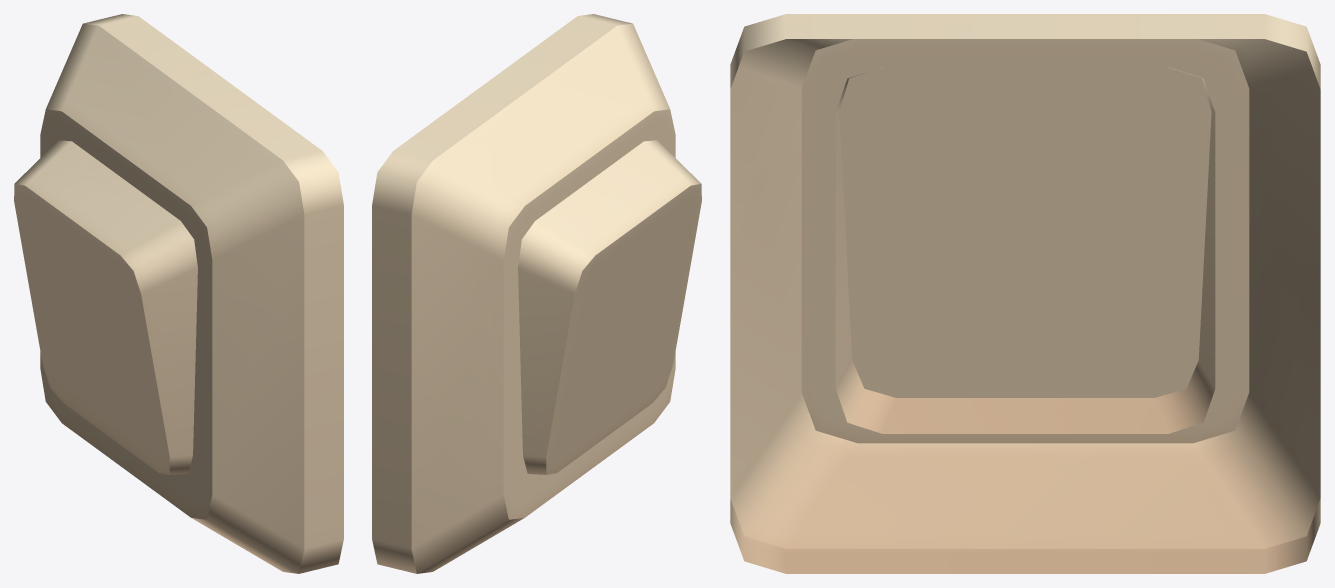
The model's file is switch_01.fbx.
The picture shows the model from 3 angles, left to right: view 1: azimuth 30°, elevation 25°; view 2: azimuth 150°, elevation 25°; view 3: azimuth 270°, elevation 25°; orthographic projection. The views are drawn at different scales.
Visible parts, largest first — view 1: switch_01_ready; view 2: switch_01_ready; view 3: switch_01_ready.
Boxes of the visible parts, left/top/right/bottom form: switch_01_ready: left=14, top=14, right=343, bottom=573; switch_01_ready: left=372, top=14, right=701, bottom=573; switch_01_ready: left=730, top=14, right=1320, bottom=573.
Size of the model in its own units: 7.64 by 19.06 by 19.06.
